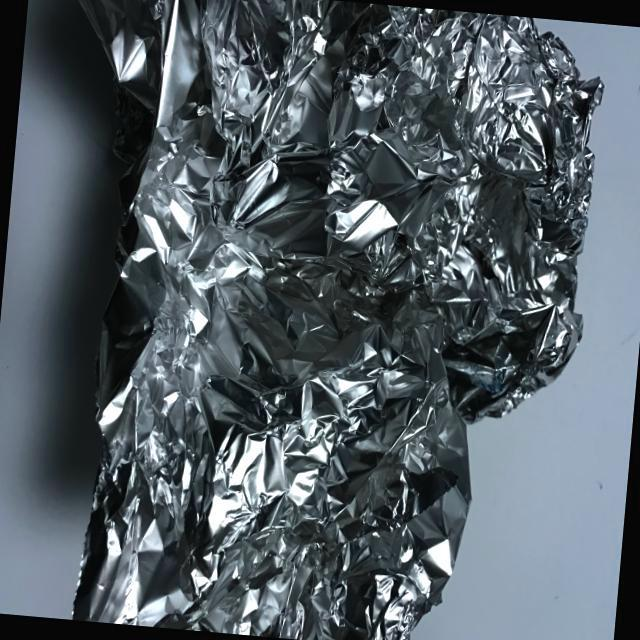metal: (3, 0, 627, 640)
